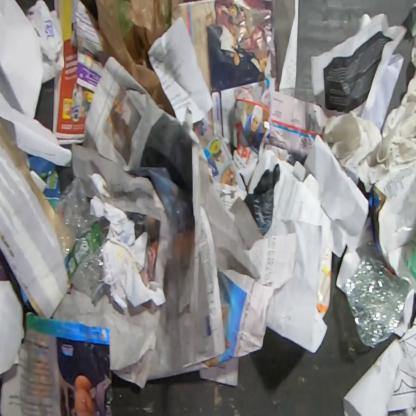cardboard: (315, 247, 332, 320), (0, 252, 13, 281)
rigid_plastic: (55, 177, 106, 308), (343, 254, 410, 348), (407, 2, 415, 32)
soft_plastic: (94, 0, 178, 119)
